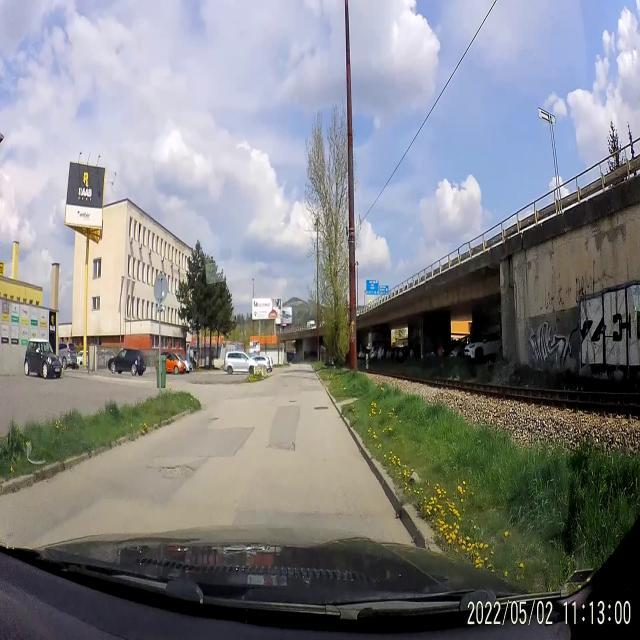Manhole: (313, 404, 330, 414)
Pothole: (153, 452, 201, 490), (270, 432, 297, 460), (206, 412, 222, 428), (286, 398, 298, 406)
